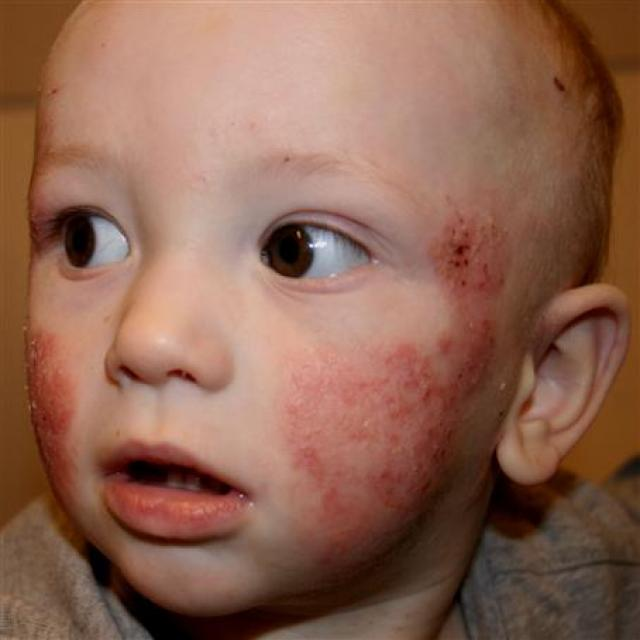eczema: (404, 182, 496, 504), (290, 360, 426, 556), (20, 328, 80, 502)
